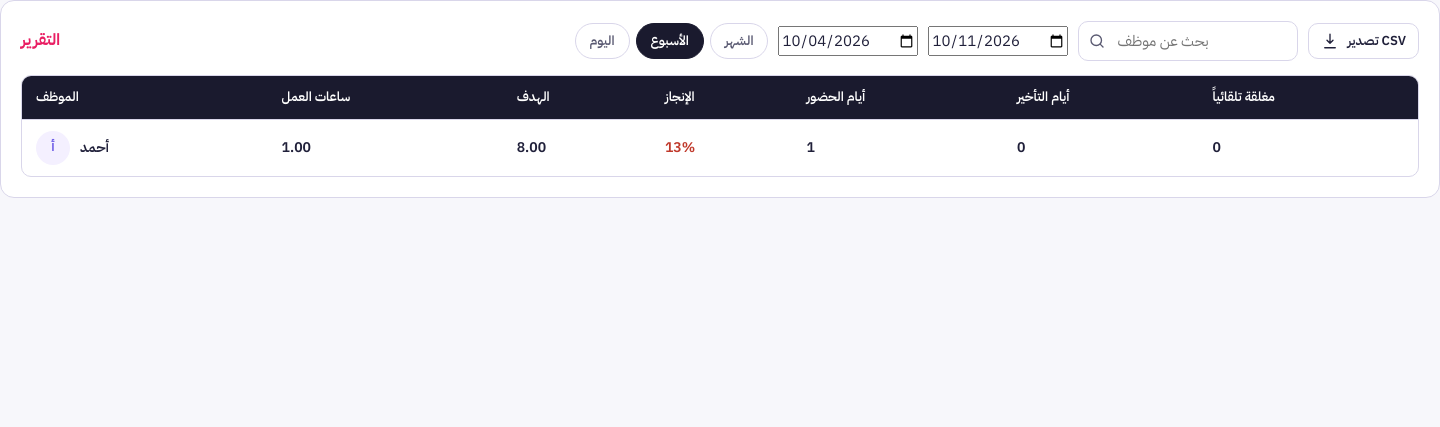
Test: ReportPanel › labels a session that ended with the manager's approval
This screenshot has width=1440, height=427.
Click the text "أحمد": (94, 148) 80,137 -> 109,159
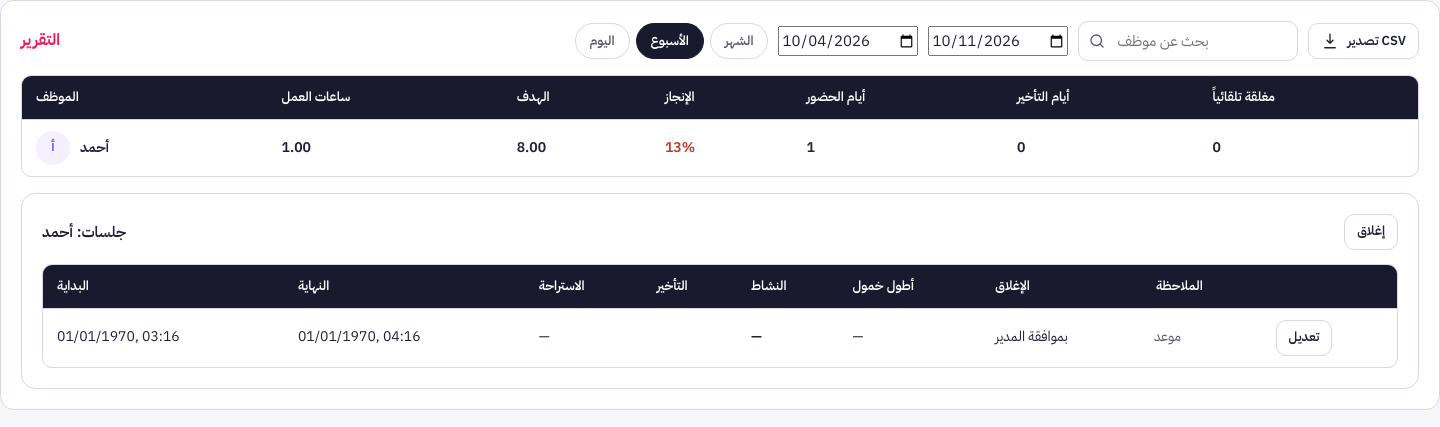
Expected: the text "بموافقة المدير" is shown, 981,308 -> 1142,367
